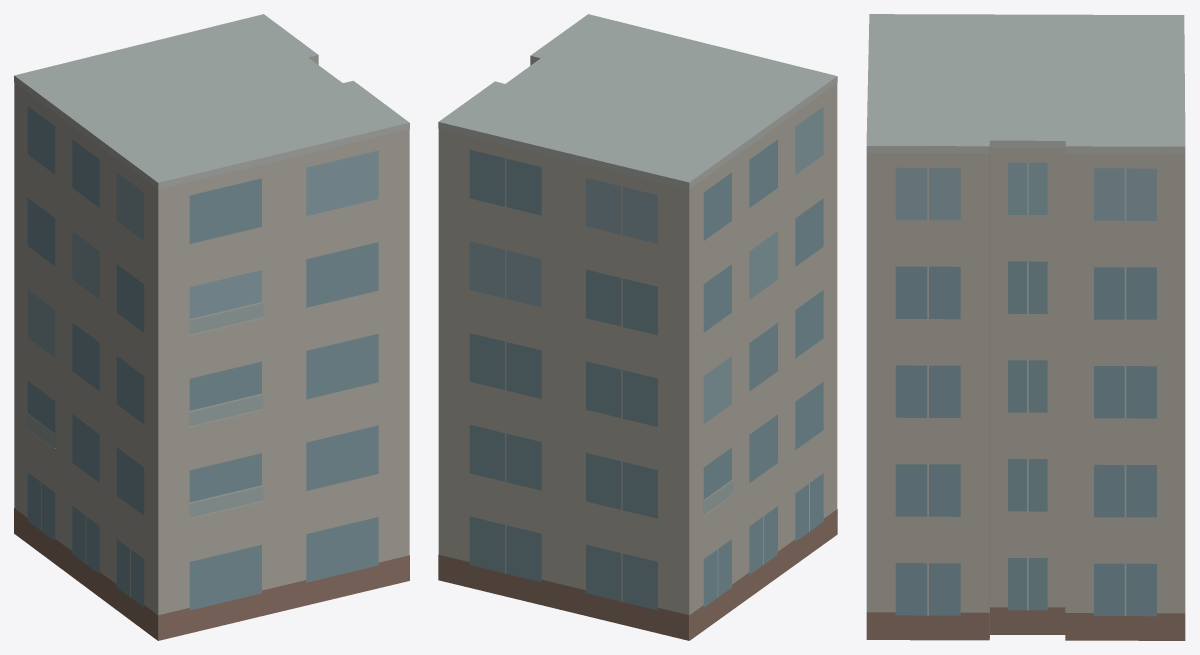
The model's file is survey-upis-32638924.glb.
The picture shows the model from 3 angles, left to right: view 1: azimuth 30°, elevation 25°; view 2: azimuth 150°, elevation 25°; view 3: azimuth 270°, elevation 25°; orthographic projection. The views are drawn at different scales.
Parts seen in each view (by area): view 1: survey-upis-32638924.tmp; view 2: survey-upis-32638924.tmp; view 3: survey-upis-32638924.tmp.
Part boxes in pixels (x1=…): survey-upis-32638924.tmp: x1=14, y1=14, x2=409, y2=640; survey-upis-32638924.tmp: x1=438, y1=14, x2=837, y2=640; survey-upis-32638924.tmp: x1=866, y1=14, x2=1185, y2=640.
Size of the model in its own units: 9.69 by 16.8 by 9.84.
